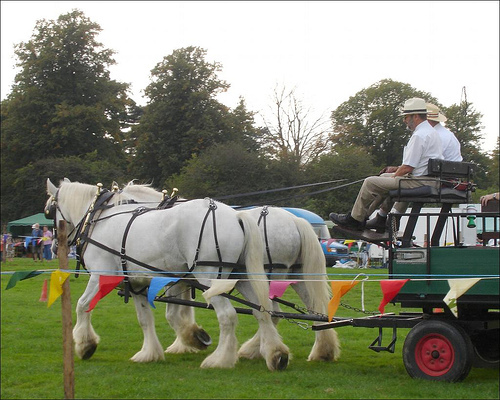horse: (42, 175, 344, 374)
